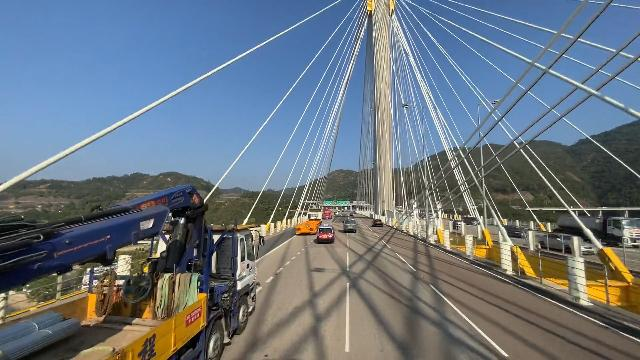car: (538, 233, 595, 255), (316, 222, 336, 248), (342, 217, 361, 237), (504, 224, 527, 239), (369, 217, 388, 228), (348, 211, 355, 218)
truck: (0, 183, 262, 360), (555, 209, 640, 247), (294, 207, 324, 236)
